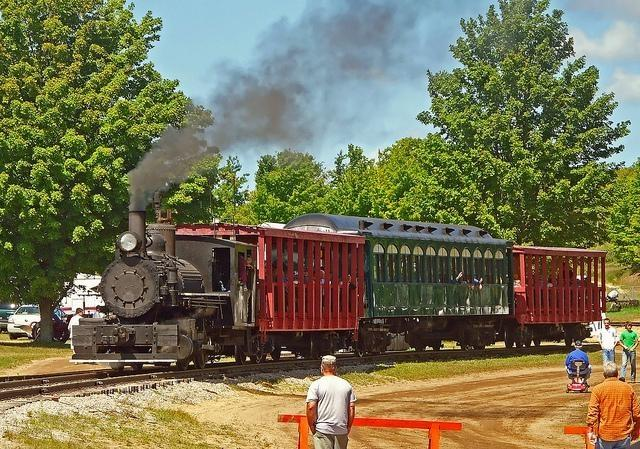car: (7, 304, 66, 340)
